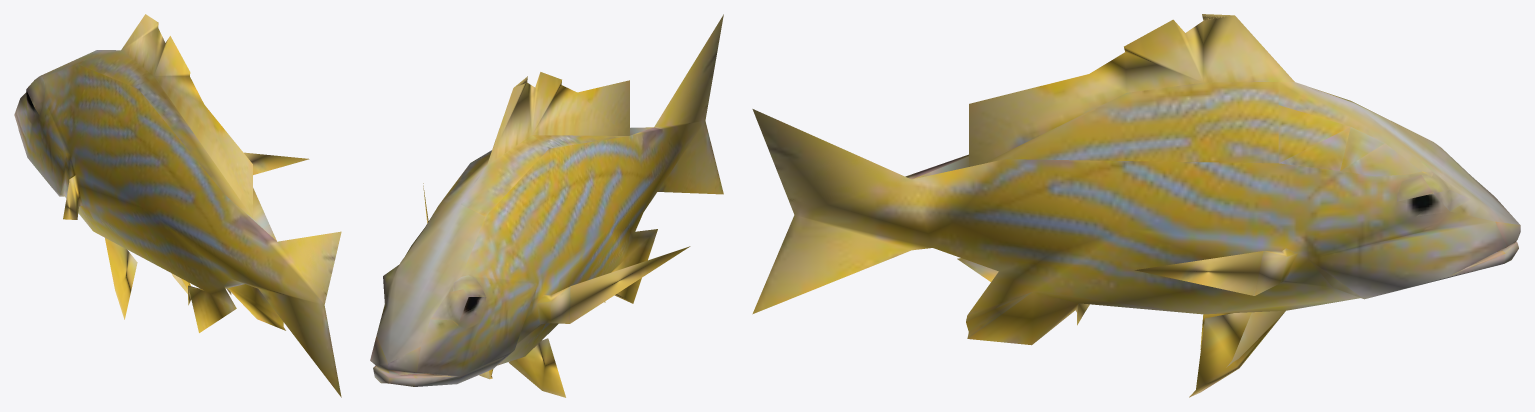
The model's file is franse_knorvis-ver.glb.
The picture shows the model from 3 angles, left to right: view 1: azimuth 30°, elevation 25°; view 2: azimuth 150°, elevation 25°; view 3: azimuth 270°, elevation 25°; orthographic projection. The views are drawn at different scales.
Parts seen in each view (by area): view 1: tripo_node_456a6d17-b7a1-4015-b81f-919ee46e553c; view 2: tripo_node_456a6d17-b7a1-4015-b81f-919ee46e553c; view 3: tripo_node_456a6d17-b7a1-4015-b81f-919ee46e553c.
Boxes of the visible parts, bbox=[...] form: tripo_node_456a6d17-b7a1-4015-b81f-919ee46e553c: bbox=[14, 14, 341, 397]; tripo_node_456a6d17-b7a1-4015-b81f-919ee46e553c: bbox=[370, 14, 723, 397]; tripo_node_456a6d17-b7a1-4015-b81f-919ee46e553c: bbox=[752, 14, 1520, 397].
Bounding box in the file's own units: 0.266 × 0.3 × 0.5785.
Materials: 1 (1 with a texture image).
